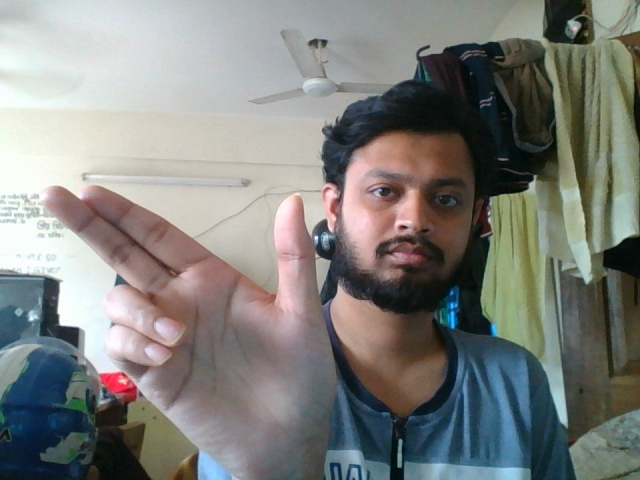jha: (34, 178, 343, 470)
